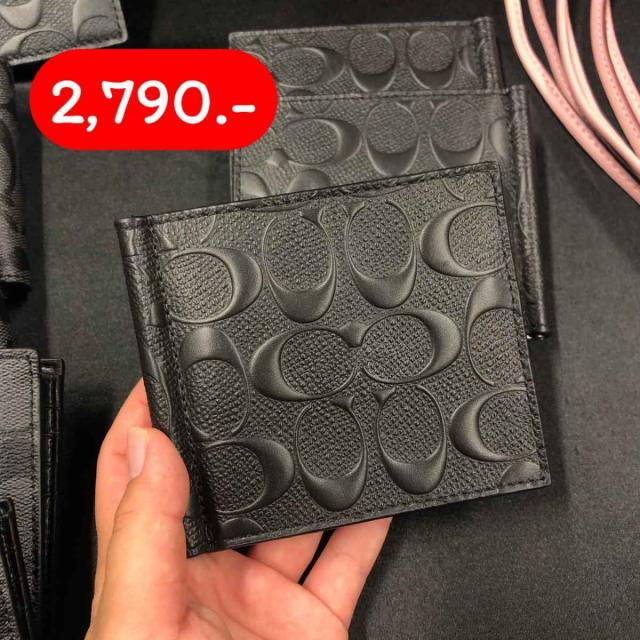Handbag: (138, 161, 574, 558)
